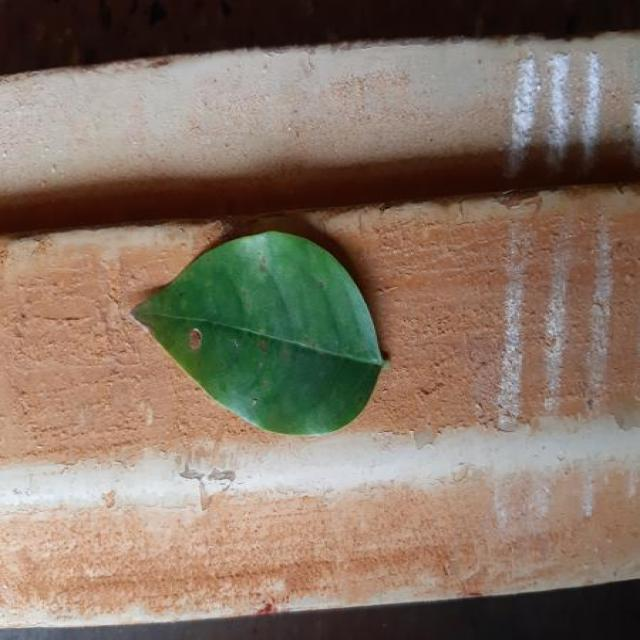amla: (133, 231, 383, 434)
defectedamla: (188, 328, 203, 351)
